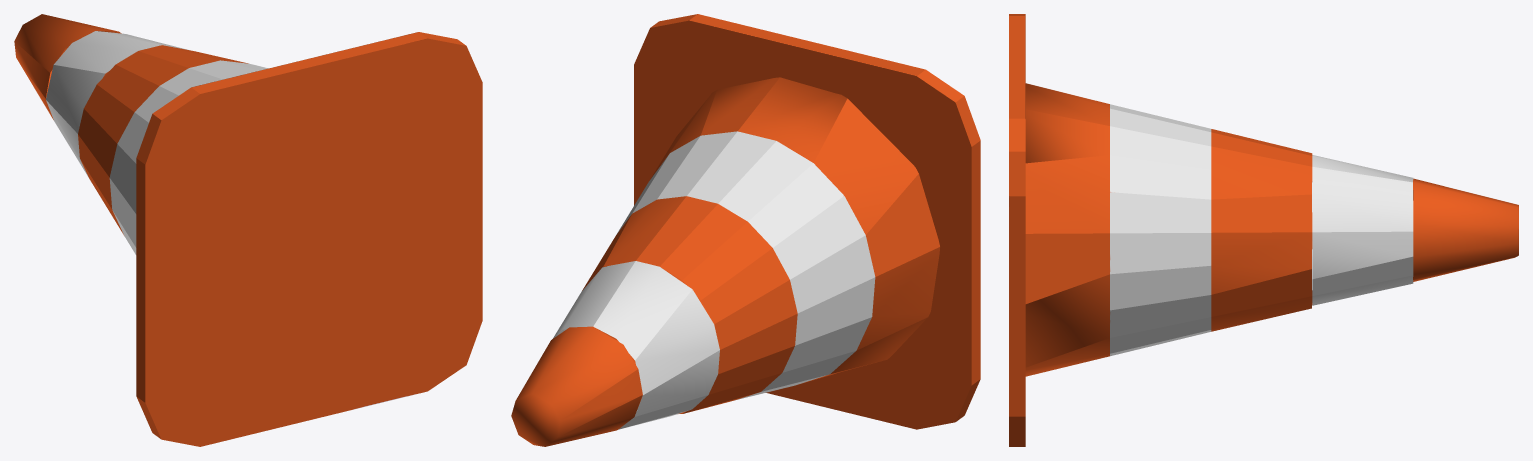
Rendered from TrafficCone01.fbx.
The picture shows the model from 3 angles, left to right: view 1: azimuth 30°, elevation 25°; view 2: azimuth 150°, elevation 25°; view 3: azimuth 270°, elevation 25°; orthographic projection. The views are drawn at different scales.
Parts seen in each view (by area): view 1: Cylinder; view 2: Cylinder; view 3: Cylinder.
Boxes of the visible parts, <box> form: Cylinder: <box>14,14,482,446</box>; Cylinder: <box>511,14,980,446</box>; Cylinder: <box>1009,14,1518,446</box>.
Size of the model in its own units: 0.6222 by 0.6222 by 0.8812.
Materials: 1 (1 with a texture image).
